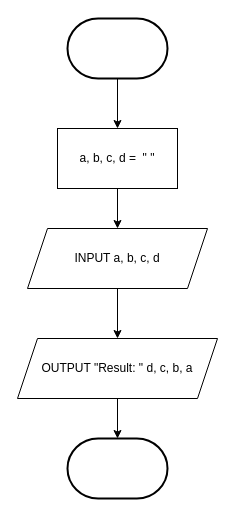
The diagram is 235 pixels wide and 516 high, and some of its shapes have lost their labels. Here are the shapes that lost their labels. From the top down, the centre of each, then its label:
the point at 117,48: Start
the point at 117,468: Stop
